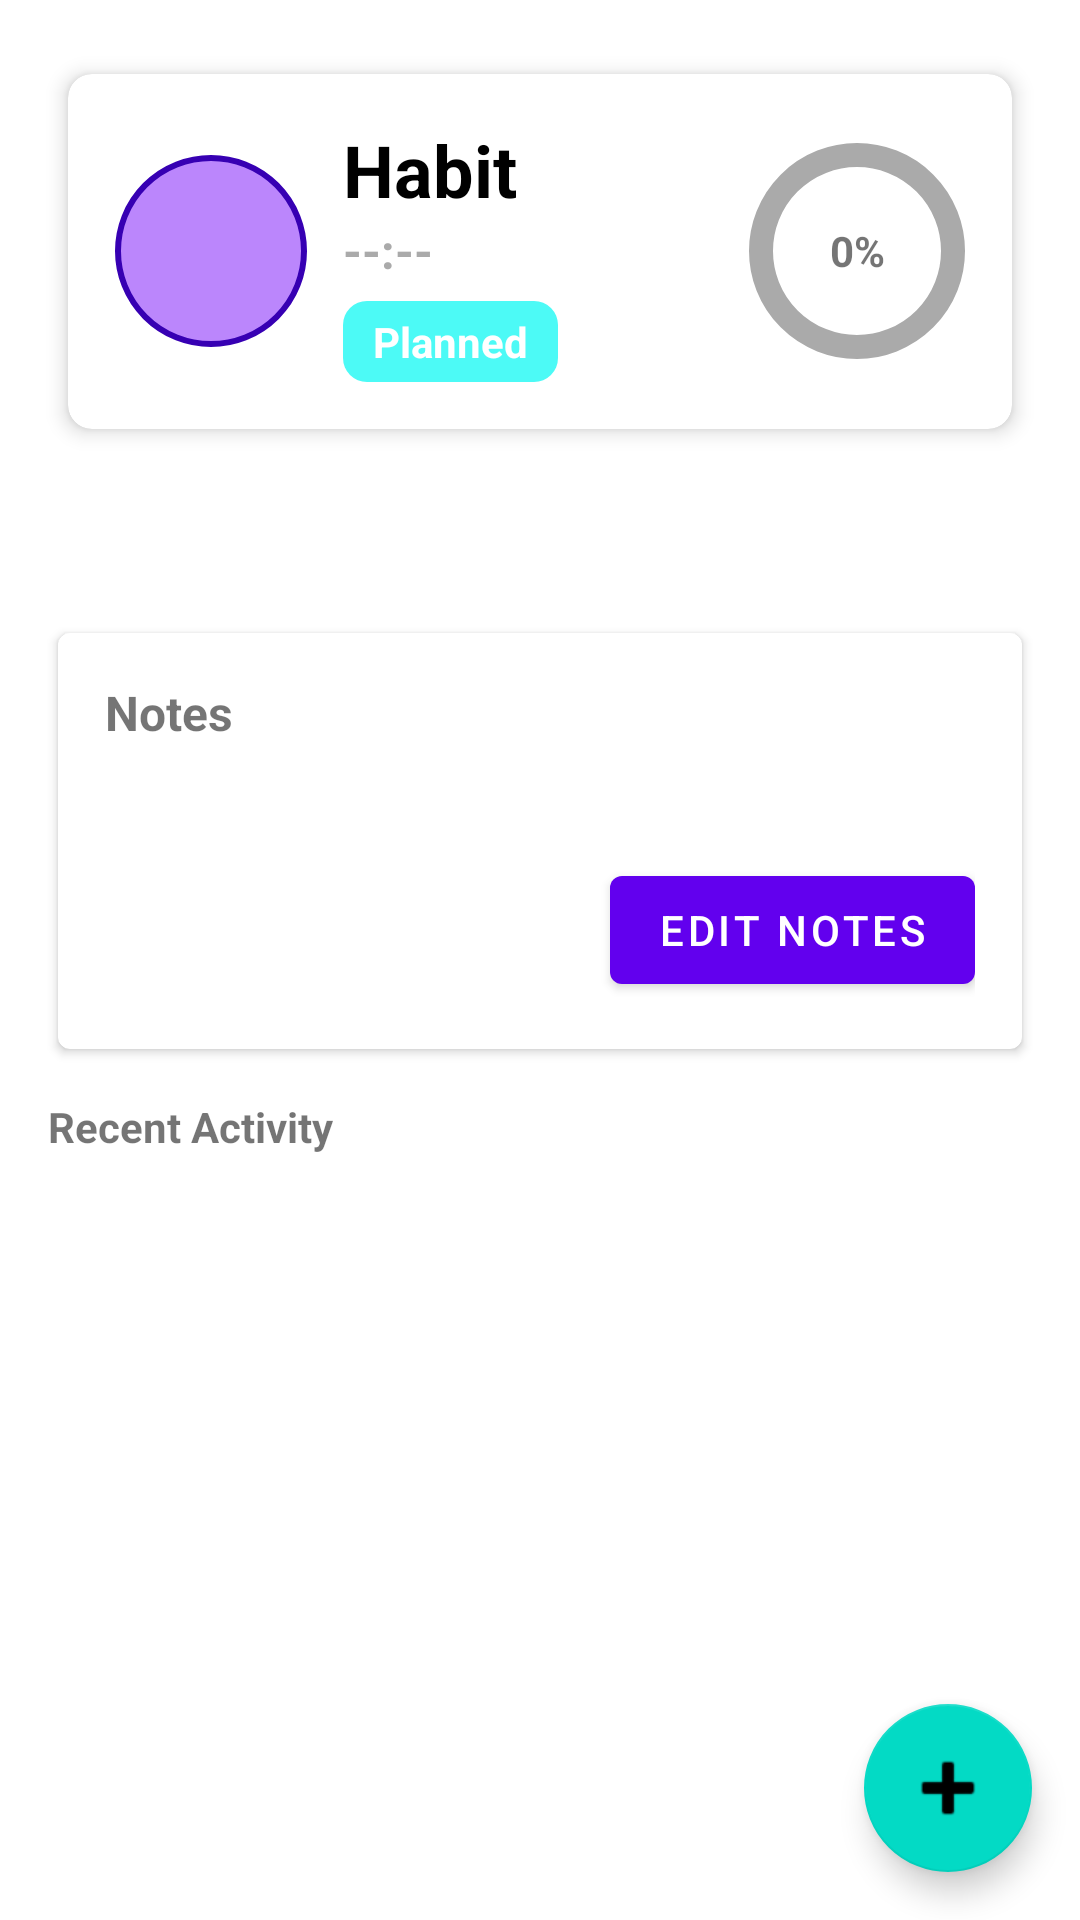

Named icons in this screenshot (1080w x 1920h) and their bounding boxes, (x1=x1, y1=y1, x2=x2, y2=y2):
Add Progress: (x1=864, y1=1704, x2=1032, y2=1872)
